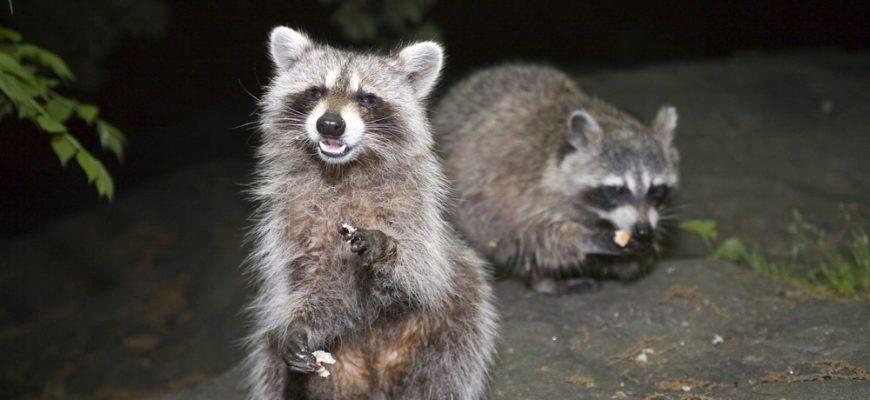raccoon: (243, 21, 503, 400), (432, 63, 685, 293)
